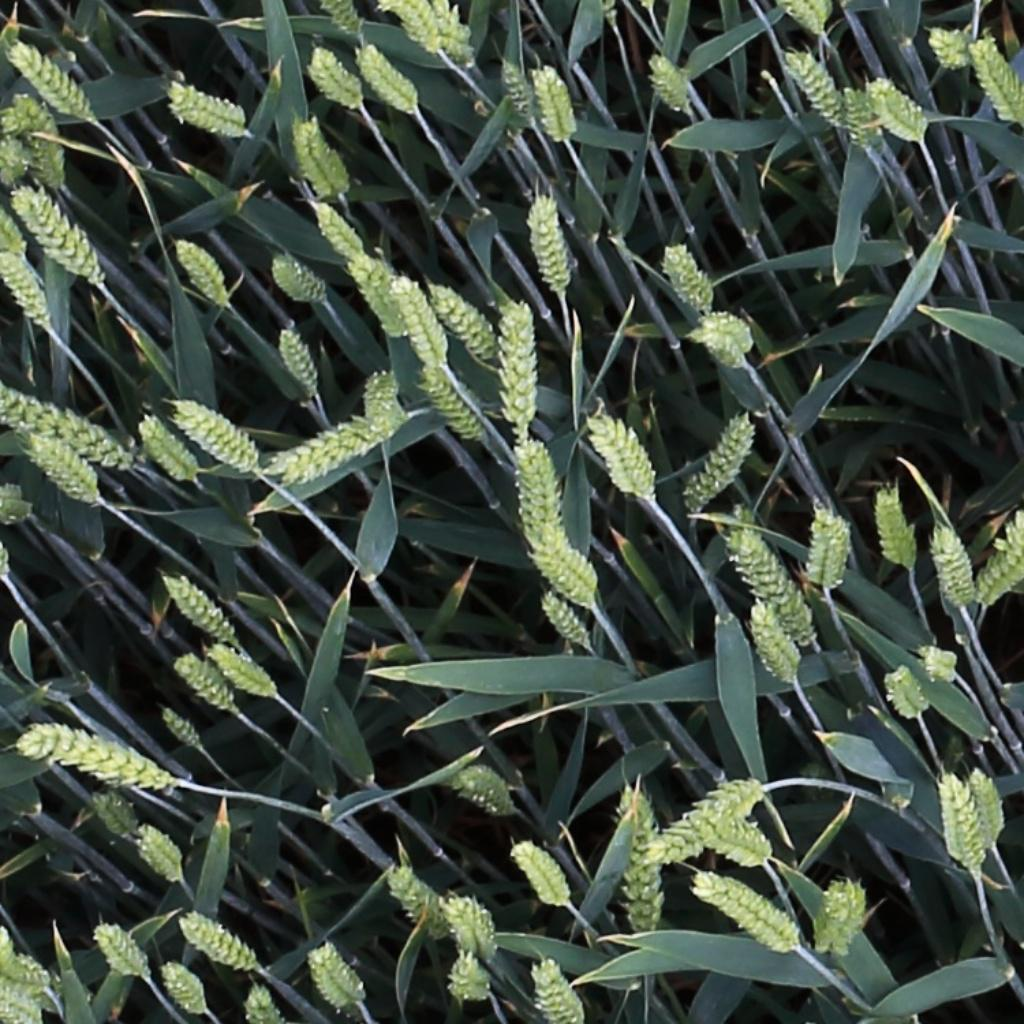0-0: (14, 723, 175, 793), (651, 780, 763, 880), (726, 525, 815, 645), (2, 385, 124, 464), (17, 184, 101, 283), (681, 410, 756, 518), (271, 416, 393, 481), (696, 877, 797, 951), (6, 39, 94, 121), (491, 301, 539, 447), (621, 790, 665, 946), (170, 398, 256, 471), (157, 572, 236, 651), (425, 279, 498, 364), (416, 357, 484, 446), (8, 84, 65, 188), (587, 410, 652, 501), (344, 247, 408, 339), (163, 83, 253, 146), (782, 45, 847, 132), (390, 271, 446, 371), (24, 432, 98, 505), (527, 533, 593, 611), (970, 34, 1024, 129), (383, 865, 451, 940), (353, 40, 419, 117), (166, 232, 229, 311), (938, 773, 983, 881), (0, 245, 55, 333), (974, 512, 1024, 608), (177, 912, 259, 970), (748, 600, 800, 690), (659, 236, 716, 318), (698, 809, 771, 873), (506, 839, 569, 913), (520, 432, 562, 543), (292, 111, 344, 200), (811, 875, 866, 959), (131, 412, 196, 483), (536, 521, 598, 595), (805, 503, 854, 595), (529, 192, 570, 300), (305, 193, 365, 263), (304, 942, 363, 1013), (270, 320, 320, 401), (533, 589, 593, 655), (169, 655, 233, 716), (204, 644, 274, 699), (305, 45, 363, 111), (531, 61, 573, 150), (932, 524, 973, 614), (441, 894, 492, 966), (88, 921, 147, 983), (644, 47, 693, 120), (532, 953, 582, 1024), (875, 483, 914, 574), (868, 79, 925, 140), (450, 759, 510, 816), (494, 55, 540, 129), (514, 436, 547, 539), (963, 765, 1002, 851), (154, 957, 207, 1019), (131, 823, 182, 887), (267, 252, 324, 304), (883, 663, 929, 724), (86, 790, 137, 845), (391, 0, 441, 55), (694, 323, 750, 371), (421, 1, 471, 53), (449, 948, 493, 1006), (152, 705, 203, 755), (841, 81, 875, 154), (363, 364, 394, 430), (241, 976, 279, 1024), (928, 30, 974, 69), (701, 314, 752, 349), (319, 0, 363, 40), (782, 1, 827, 40), (0, 202, 30, 260), (916, 645, 958, 684), (1, 985, 42, 1022)
